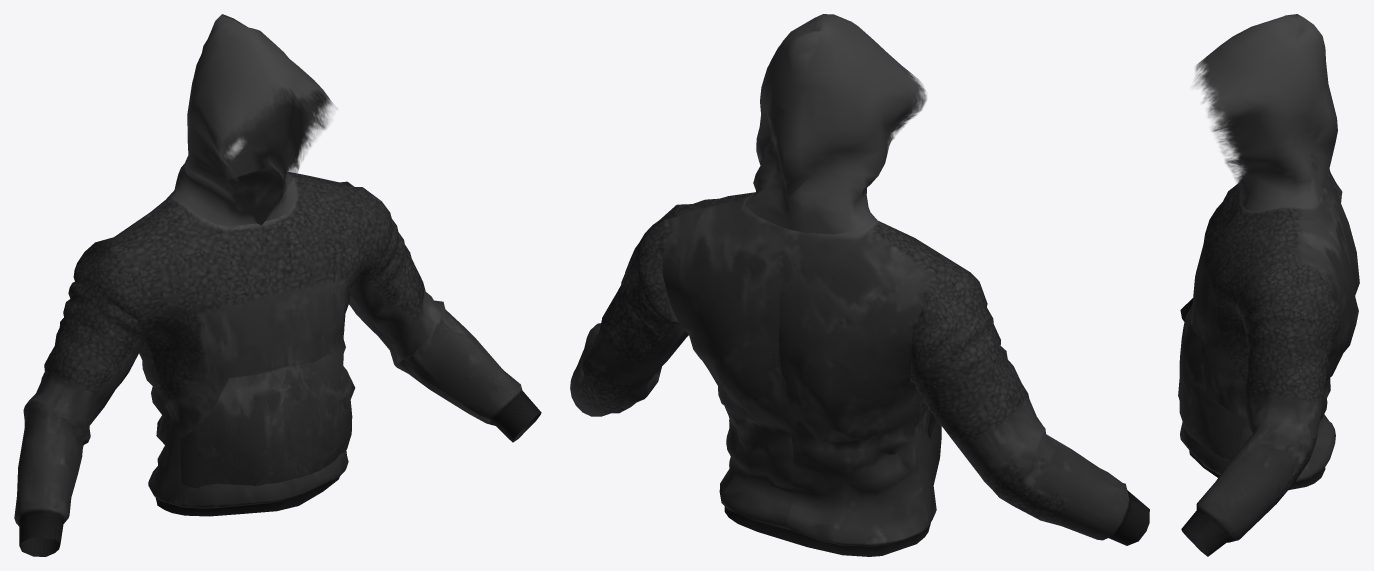
Rendered from hoodie-transformed.glb.
3 views of the same model, side by side, from view 1: azimuth 30°, elevation 25°; view 2: azimuth 150°, elevation 25°; view 3: azimuth 270°, elevation 25° (orthographic). The views are drawn at different scales.
Parts seen in each view (by area): view 1: polySurface5; view 2: polySurface5; view 3: polySurface5.
Boxes of the visible parts, x1,y1,x2,y2 form: polySurface5: [14, 14, 541, 556]; polySurface5: [570, 14, 1149, 556]; polySurface5: [1178, 14, 1359, 556].
Size of the model in its own units: 991 by 842 by 316.
1 material, 1 textured.
